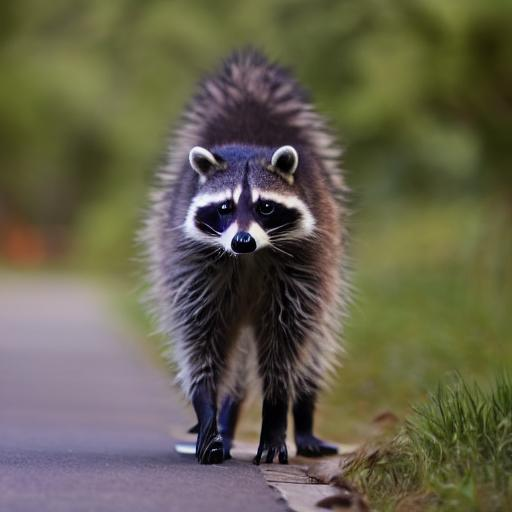raccoon: (133, 50, 357, 382)
